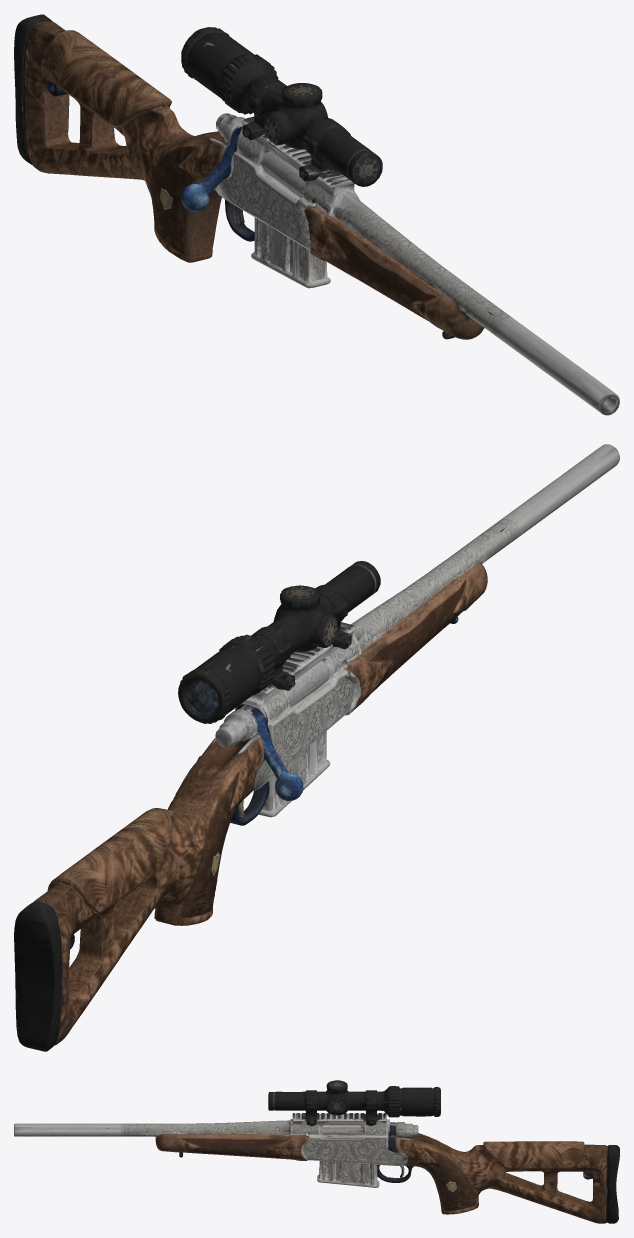
The model's file is bolt.glb.
The picture shows the model from 3 angles, top to bottom: view 1: azimuth 30°, elevation 25°; view 2: azimuth 150°, elevation 25°; view 3: azimuth 270°, elevation 25°; orthographic projection. The views are drawn at different scales.
Bounding box in the file's own units: 0.1026 × 0.2884 × 1.15.
Materials: 1 (1 with a texture image).
